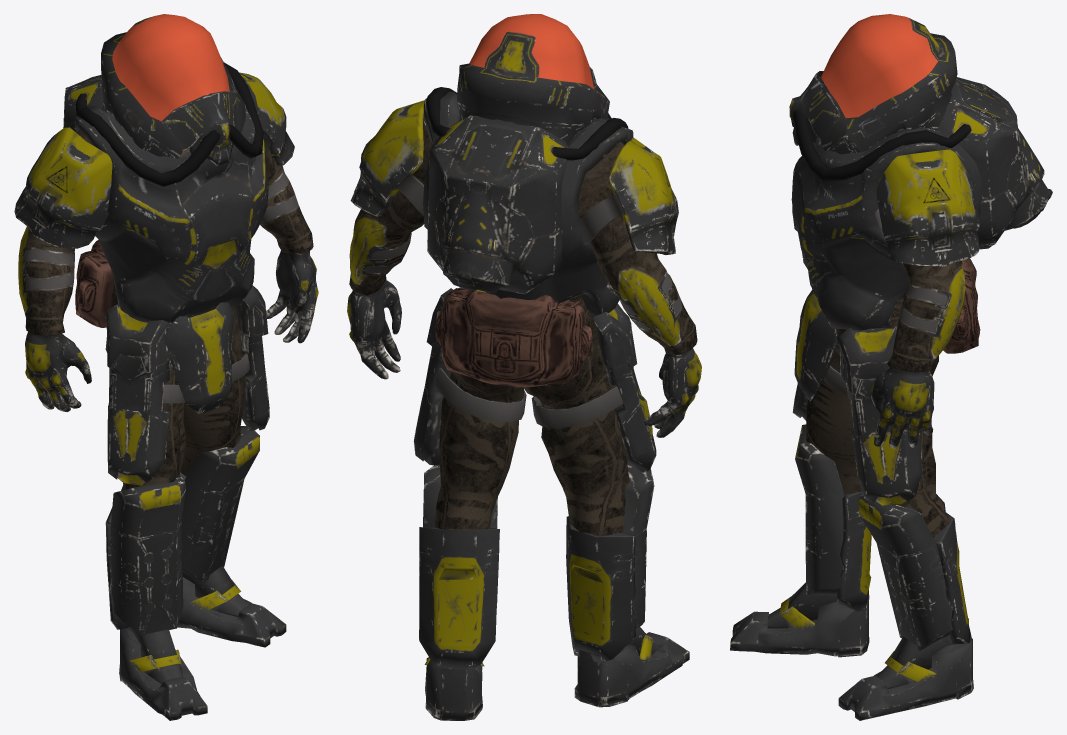
3 views of the same model, side by side, from view 1: azimuth 30°, elevation 25°; view 2: azimuth 150°, elevation 25°; view 3: azimuth 270°, elevation 25° (orthographic). The views are drawn at different scales.
Parts seen in each view (by area): view 1: Bag_Retopo:Bag_Low Bag_Retopo:Sci_Fi_Soldier_Low Hazard_Unit; view 2: Bag_Retopo:Bag_Low Bag_Retopo:Sci_Fi_Soldier_Low Hazard_Unit; view 3: Bag_Retopo:Bag_Low Bag_Retopo:Sci_Fi_Soldier_Low Hazard_Unit.
Boxes of the visible parts, x1,y1,x2,y2 form: Bag_Retopo:Bag_Low Bag_Retopo:Sci_Fi_Soldier_Low Hazard_Unit: (14, 14, 318, 720); Bag_Retopo:Bag_Low Bag_Retopo:Sci_Fi_Soldier_Low Hazard_Unit: (347, 14, 701, 720); Bag_Retopo:Bag_Low Bag_Retopo:Sci_Fi_Soldier_Low Hazard_Unit: (730, 14, 1052, 720).
Size of the model in its own units: 90.87 by 180 by 80.8.
Materials: 1 (1 with a texture image).
